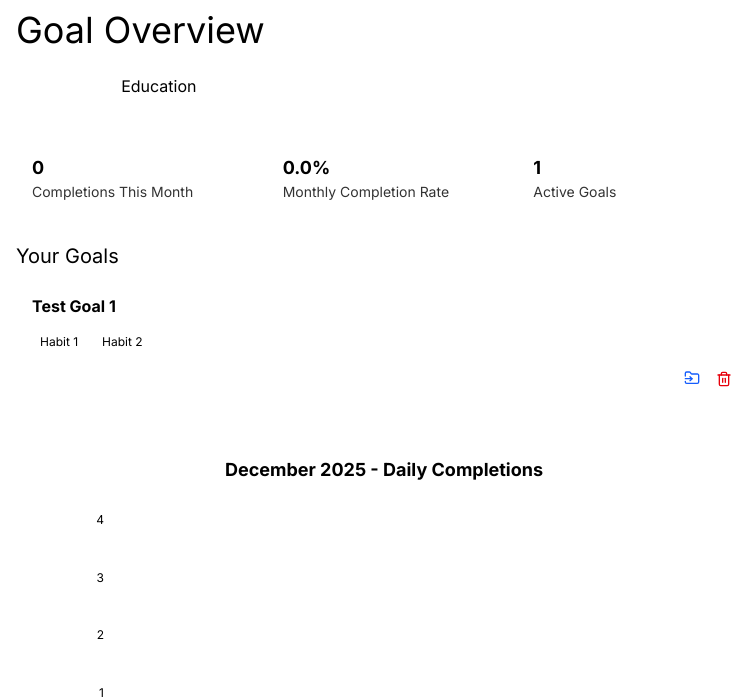
it: Goals Component › switches category when filter tab is clicked
What coordinates should you click on to do the following:
click the button "Education"
I would click on:
 (159, 86)
Its box is [105, 66, 212, 106].
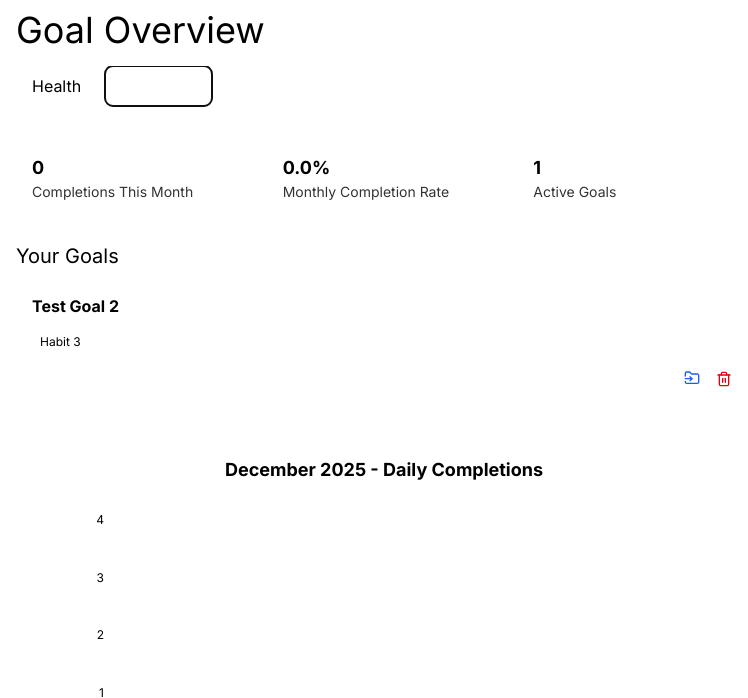
expect the text "Test Goal 2" is shown: met, box [32, 296, 119, 316]
